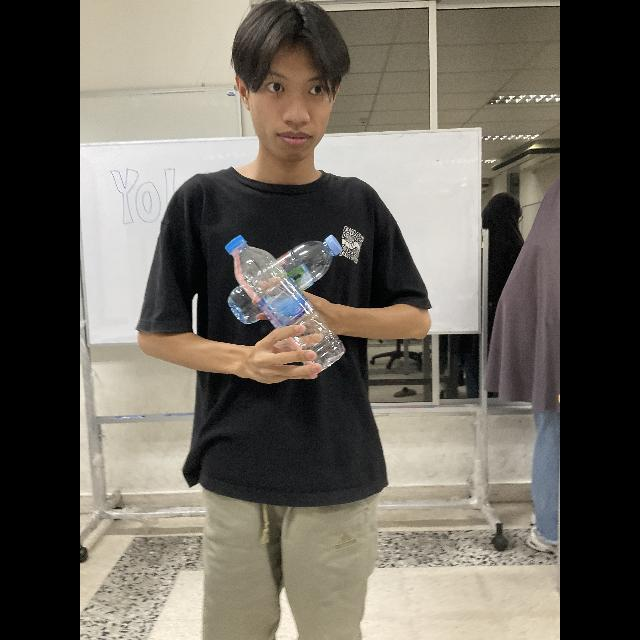plastic_bottle: (226, 233, 344, 375), (229, 237, 343, 327)
plastic_bottle_cap: (224, 236, 250, 258), (322, 235, 344, 258)
